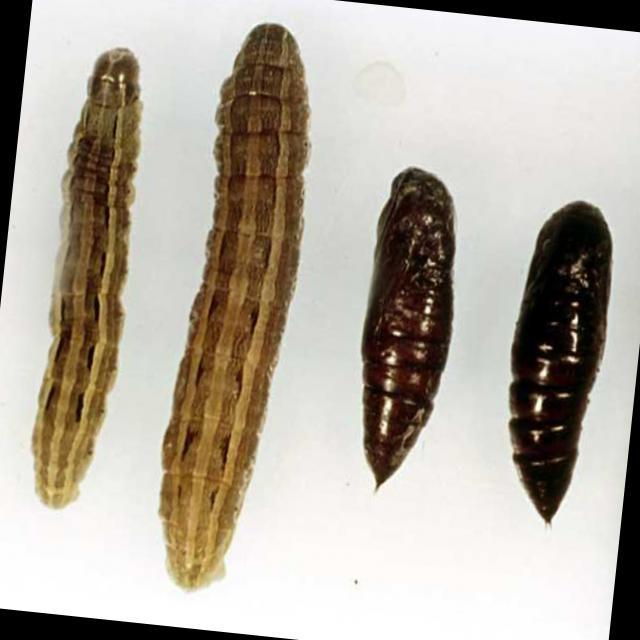Plaga: (141, 9, 333, 611), (15, 34, 158, 524)
